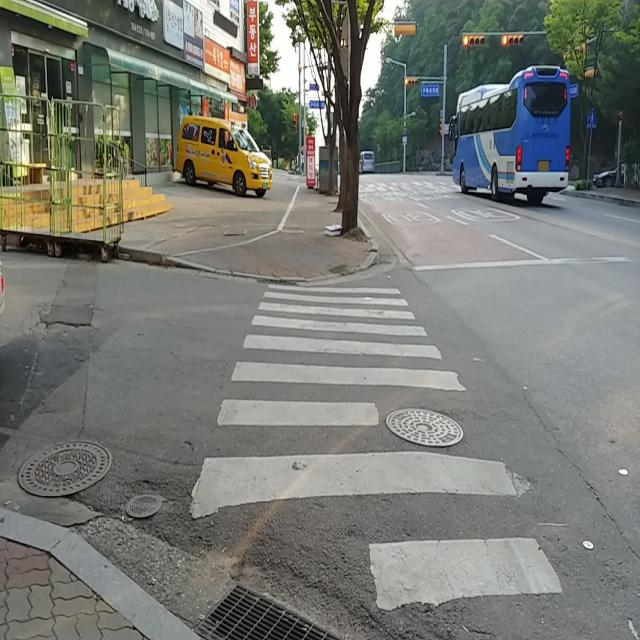횡단보도: (186, 275, 568, 615), (351, 176, 472, 196)
